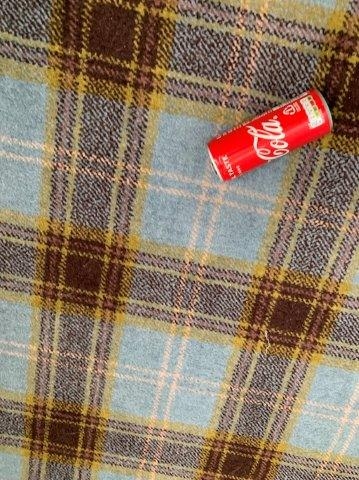kaleng: (209, 90, 331, 180)
